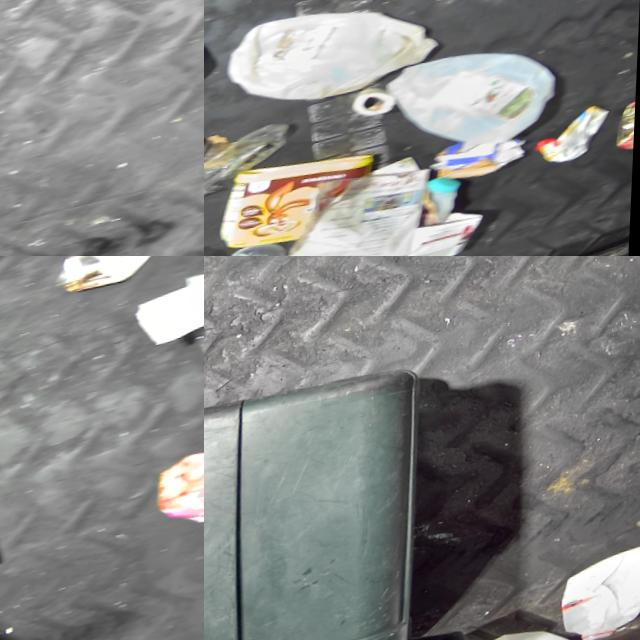can: (49, 256, 179, 302), (611, 107, 640, 169)
milk_jug: (219, 0, 447, 128), (382, 37, 570, 182), (295, 180, 477, 256), (557, 553, 640, 640)
non_white_jug: (211, 141, 388, 256)
plastic_bottle: (204, 123, 301, 207)
